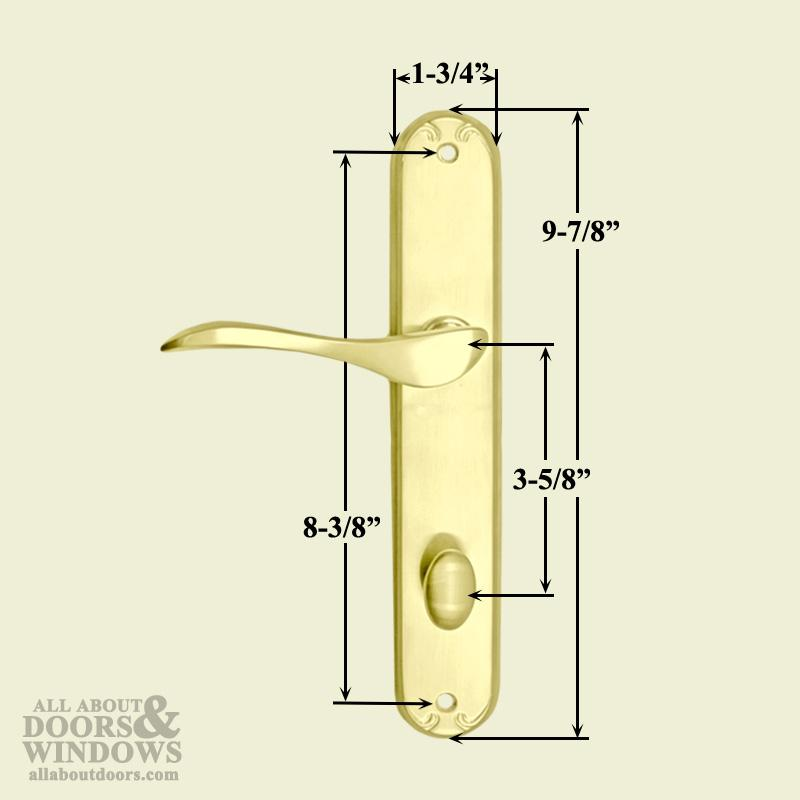doorhandle: (152, 265, 541, 411)
